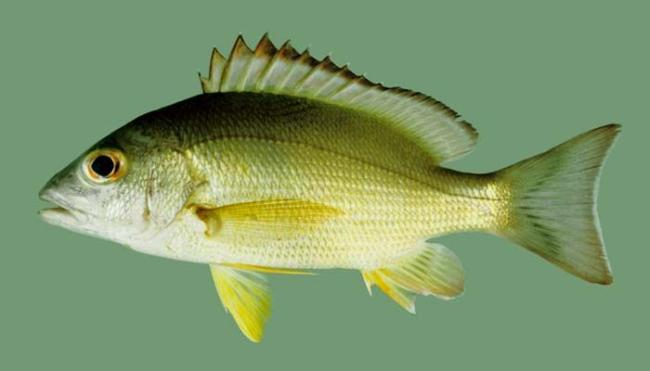fish: (36, 31, 622, 342)
